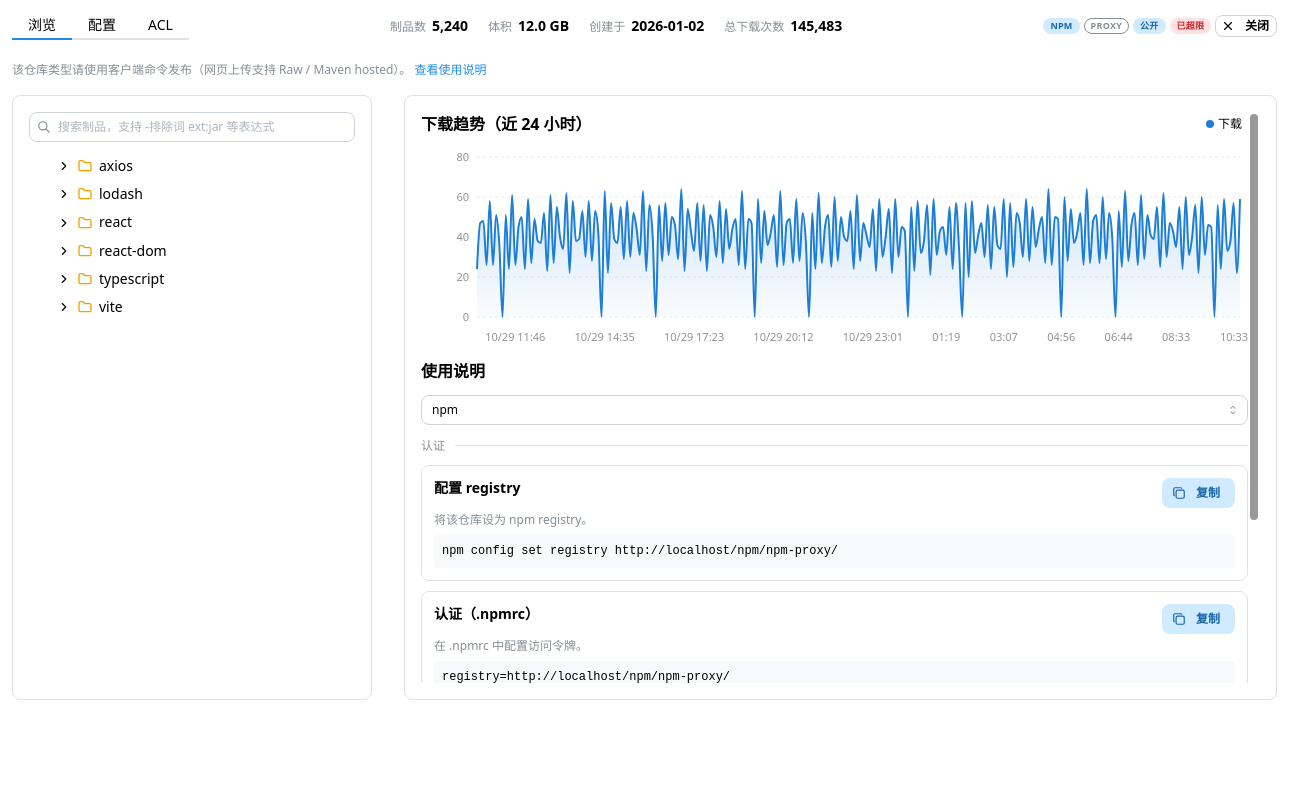
Test case: 仓库详情 › offline 开关切换后连接状态显示离线（MD-2）
Click the tab "配置" at coordinates (102, 26), box [72,12,132,40]
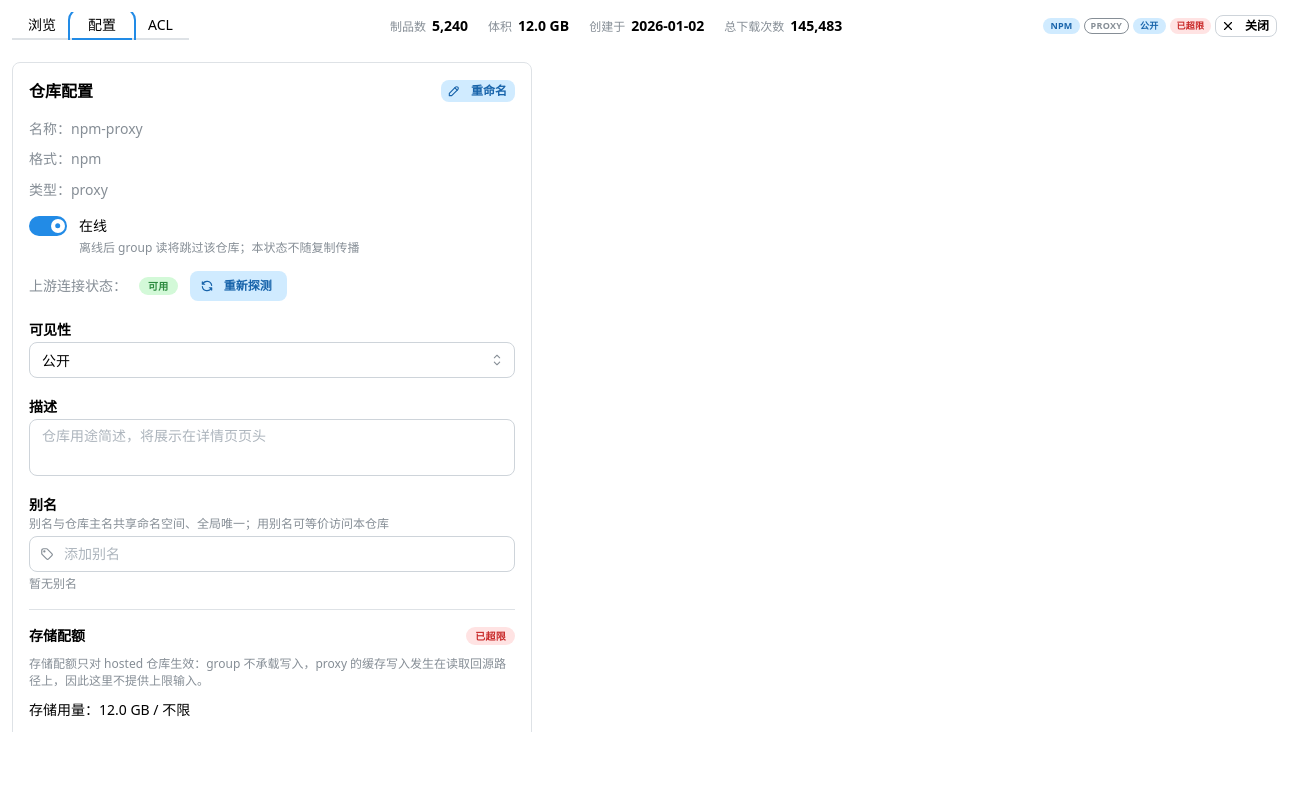
Check: the text "可用" is shown, box [148,278,168,294]
关掉在线开关 → 显示「离线」。
Click the switch labelled "在线 离线后 group 读将跳过该仓库；本状态不随复制传播" at coordinates (194, 236), box [29,216,359,256]
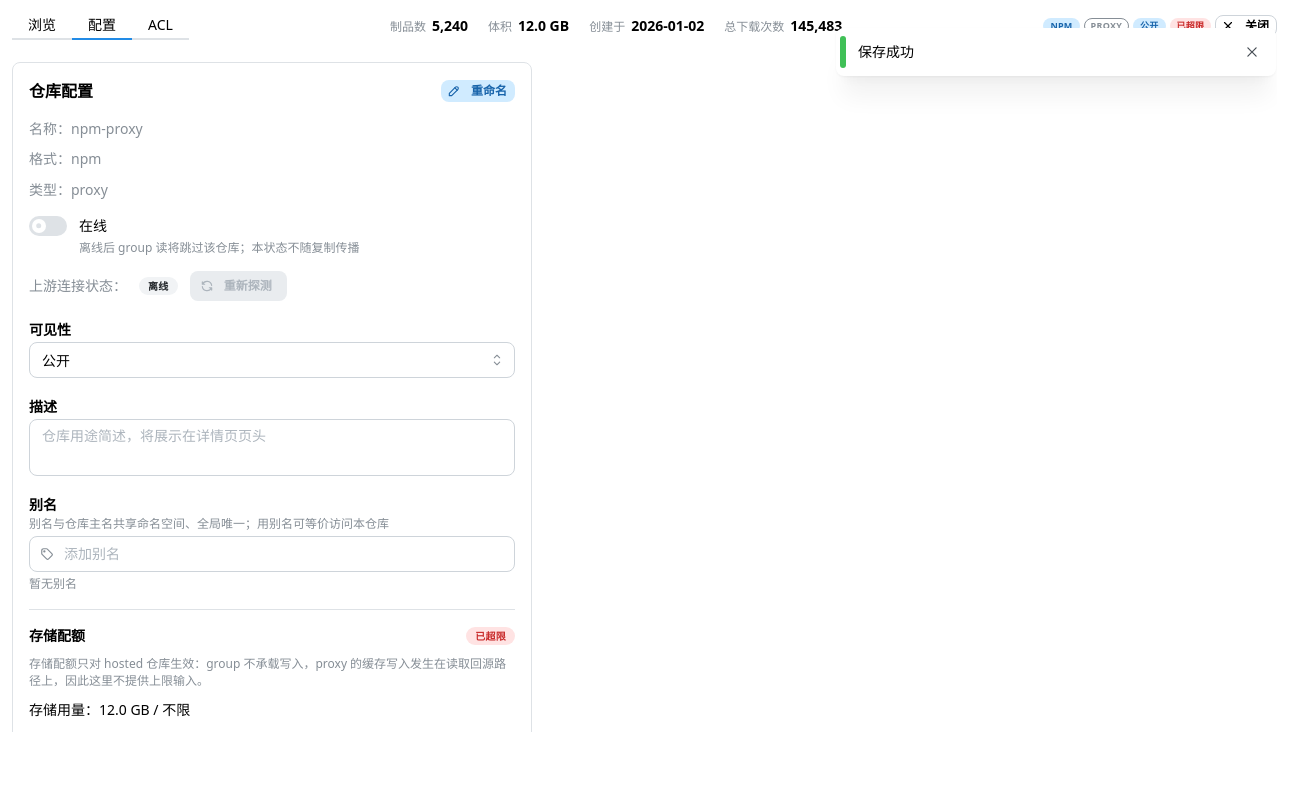
Check: the text "离线" is shown, box [148,278,168,294]
Check: the button "重新探测" is disabled, box [190,271,287,301]
Click the switch labelled "在线 离线后 group 读将跳过该仓库；本状态不随复制传播" at coordinates (194, 236), box [29,216,359,256]
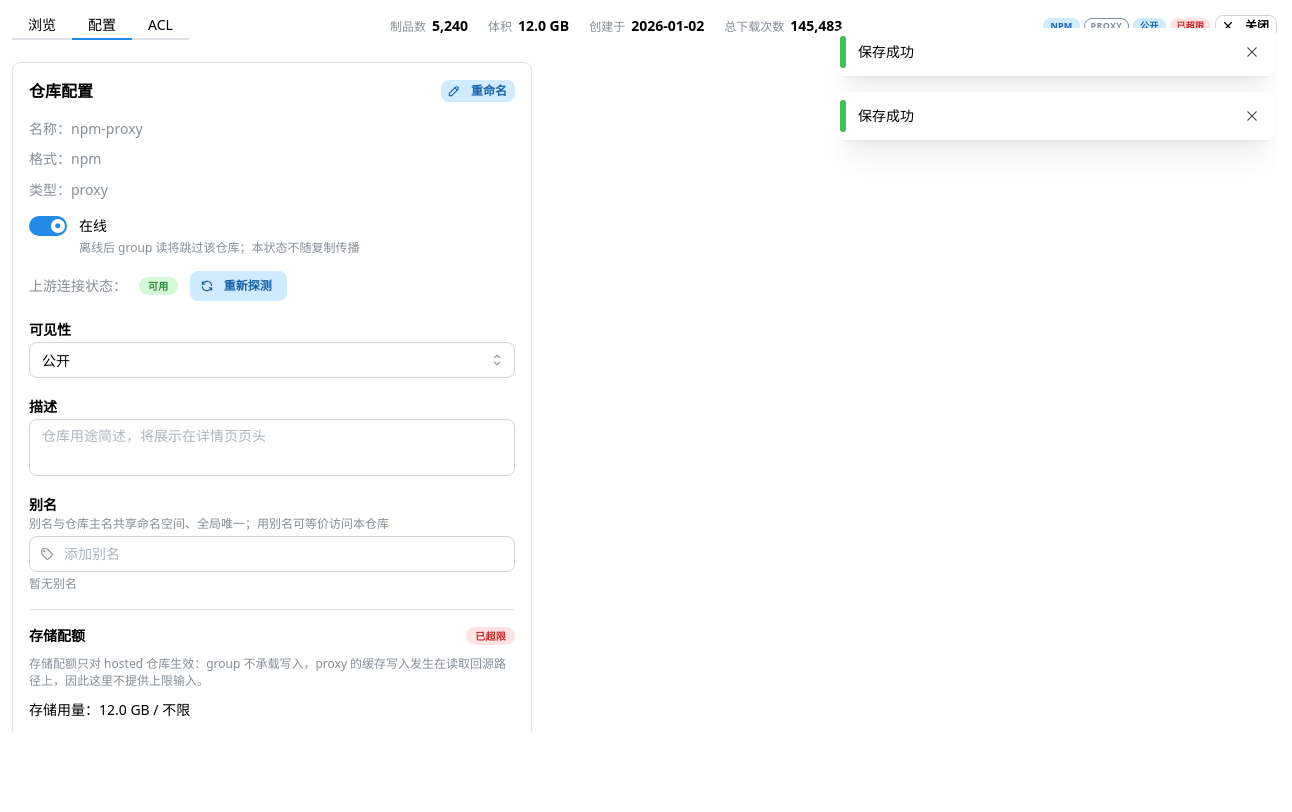
Check: the text "可用" is shown, box [148,278,168,294]
Check: the button "重新探测" is enabled, box [190,271,287,301]
